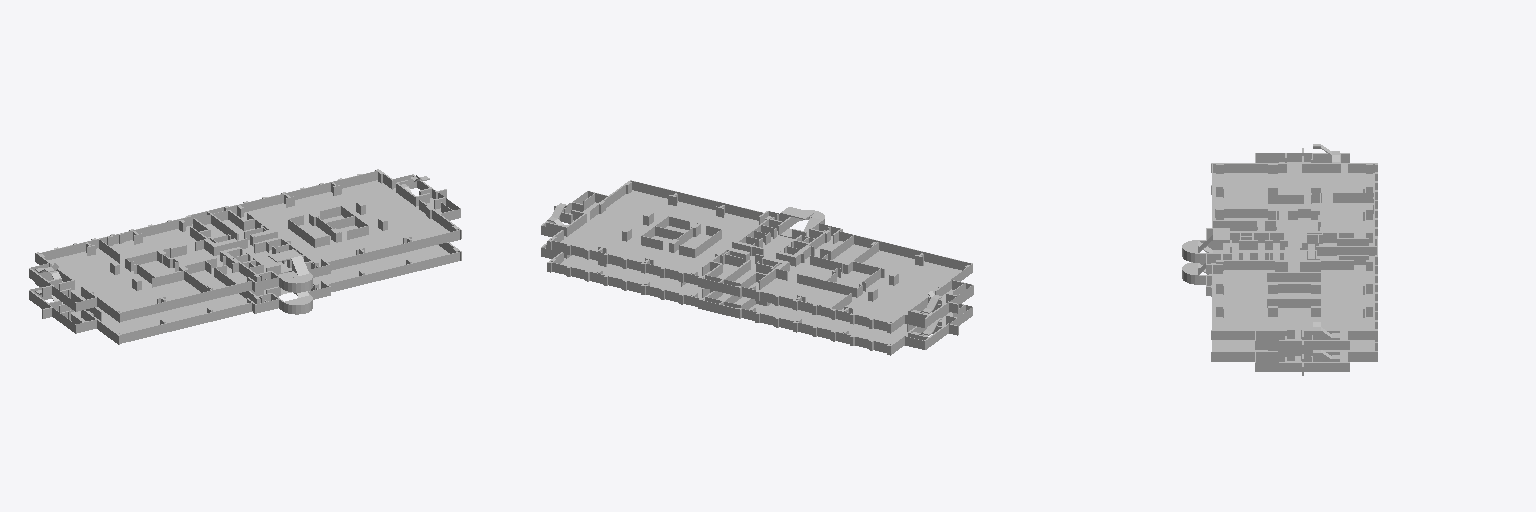
File: quinto_consertado_escada_central.obj
The picture shows the model from 3 angles: view 1: azimuth 30°, elevation 25°; view 2: azimuth 150°, elevation 25°; view 3: azimuth 270°, elevation 25°; orthographic projection.
Size of the model in its own units: 64.28 by 6.66 by 27.01.